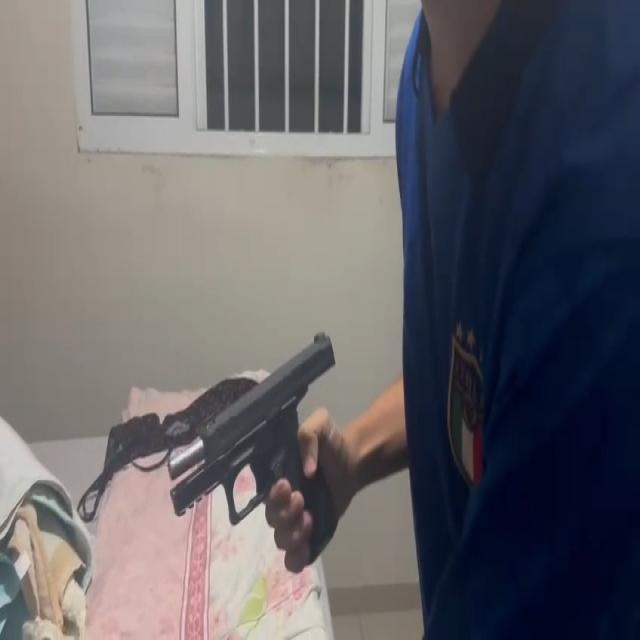gun: (168, 328, 336, 560)
